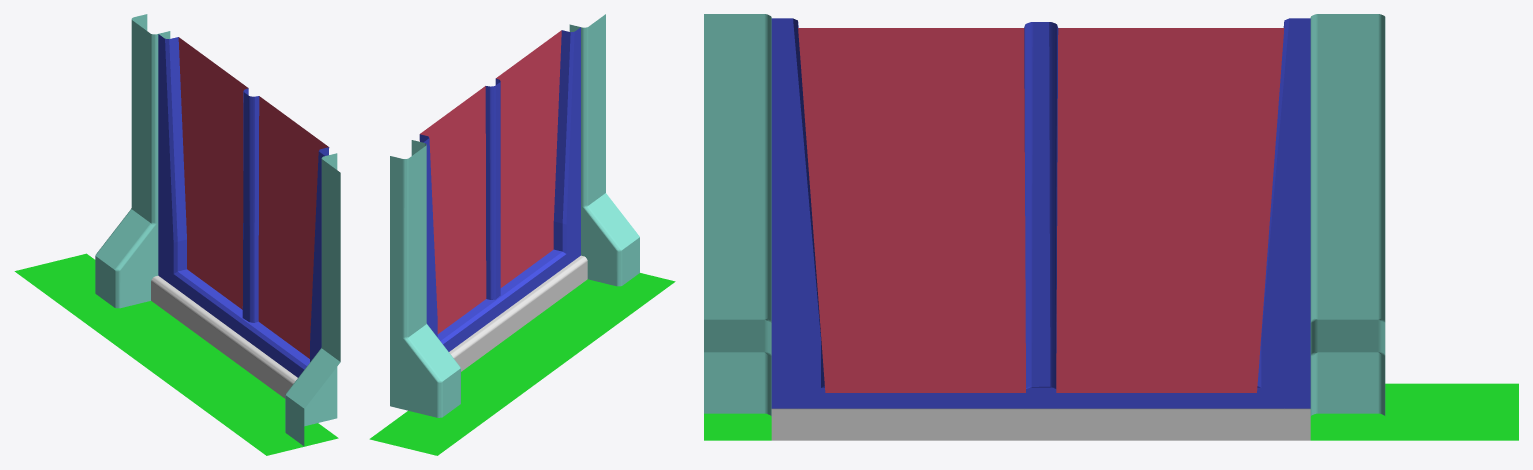
The model's file is L1V2_Corner_Wall_V2.fbx.
3 renders of one model, left to right at view 1: azimuth 30°, elevation 25°; view 2: azimuth 150°, elevation 25°; view 3: azimuth 270°, elevation 25°, orthographic. The views are drawn at different scales.
Parts seen in each view (by area): view 1: Wall.006; view 2: Wall.006; view 3: Wall.006.
Part boxes in pixels (x1,y1,x2,y2): Wall.006: (14, 14, 340, 455); Wall.006: (369, 14, 675, 455); Wall.006: (704, 14, 1518, 440).
Size of the model in its own units: 253 by 700 by 1207.
